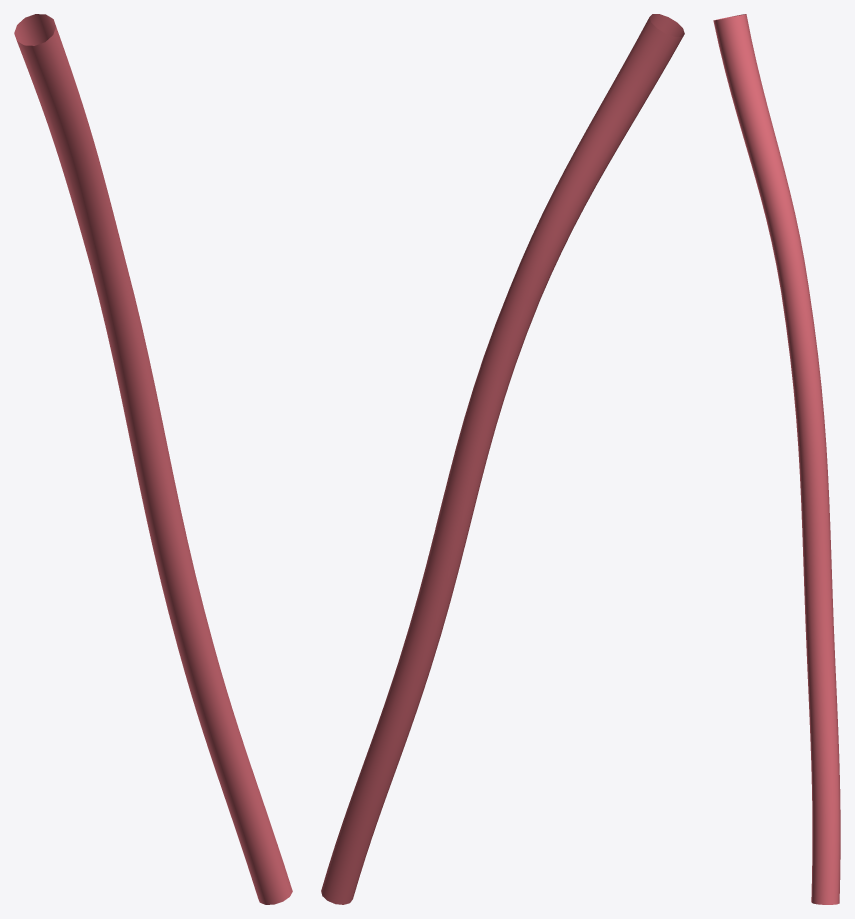
The picture shows the model from 3 angles, left to right: view 1: azimuth 30°, elevation 25°; view 2: azimuth 150°, elevation 25°; view 3: azimuth 270°, elevation 25°; orthographic projection. The views are drawn at different scales.
Parts seen in each view (by area): view 1: ZA_3947c4860a0b5915; view 2: ZA_3947c4860a0b5915; view 3: ZA_3947c4860a0b5915.
Part boxes in pixels (x1,y1,x2,y2): ZA_3947c4860a0b5915: (14, 14, 292, 904); ZA_3947c4860a0b5915: (321, 14, 684, 904); ZA_3947c4860a0b5915: (713, 14, 840, 904).
Size of the model in its own units: 0.0266 by 0.076 by 0.0112.
